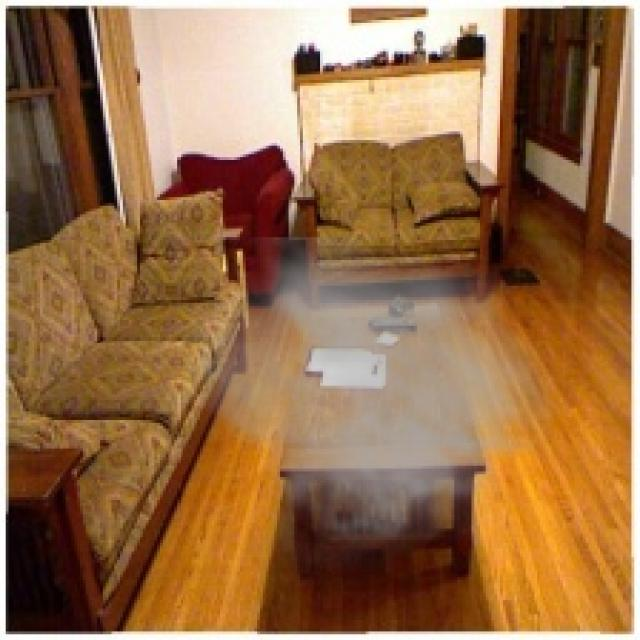smoke: (177, 237, 574, 580)
